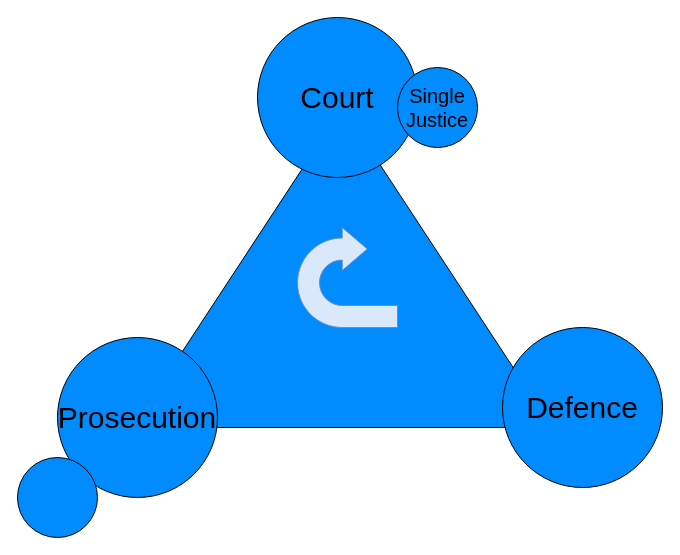
This 680x555 diagram has some shape labels left out. The box of each missing label's shape, as (x1, y1, x2, y2) in pixels:
Case: (296, 226, 398, 328)
Pre-Charge: (16, 456, 98, 538)
